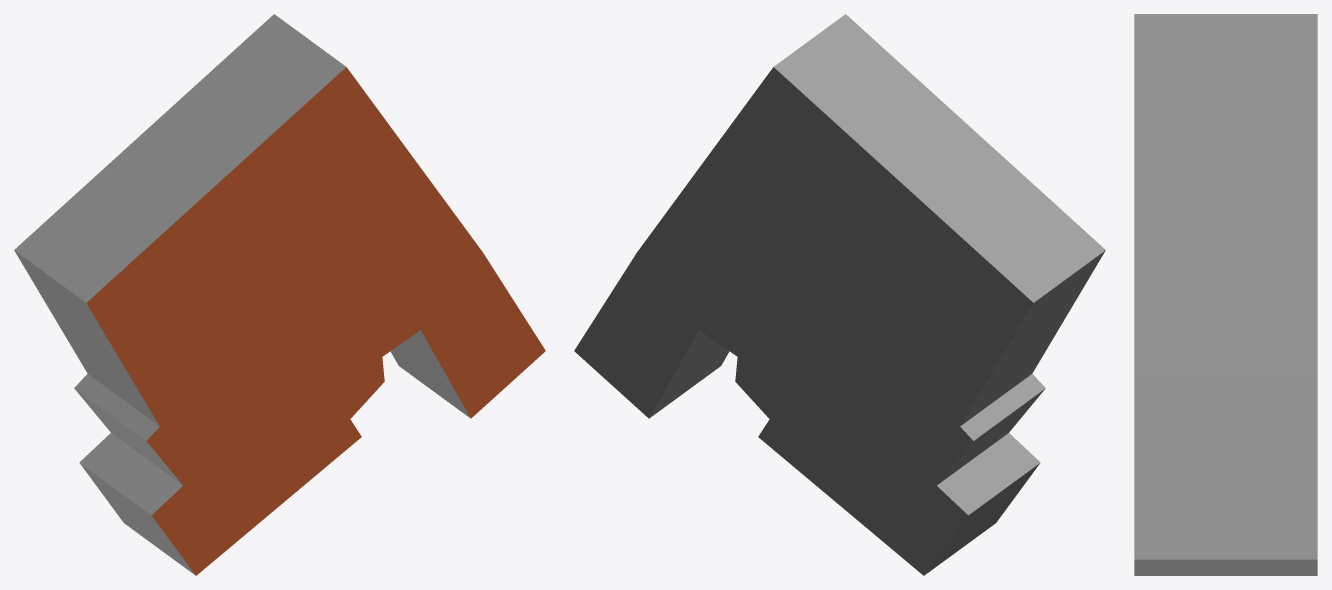
Rendered from construction_4644_assumed_A_Casa_h6m.obj.
The picture shows the model from 3 angles, left to right: view 1: azimuth 30°, elevation 25°; view 2: azimuth 150°, elevation 25°; view 3: azimuth 270°, elevation 25°; orthographic projection. The views are drawn at different scales.
Parts seen in each view (by area): view 1: construction_4644_assumed_A_Casa; view 2: construction_4644_assumed_A_Casa; view 3: construction_4644_assumed_A_Casa.
Boxes of the visible parts, x1,y1,x2,y2 form: construction_4644_assumed_A_Casa: (14,14,545,575); construction_4644_assumed_A_Casa: (574,14,1105,575); construction_4644_assumed_A_Casa: (1134,14,1317,575).
Bounding box in the file's own units: 22.02 × 21.63 × 6.
